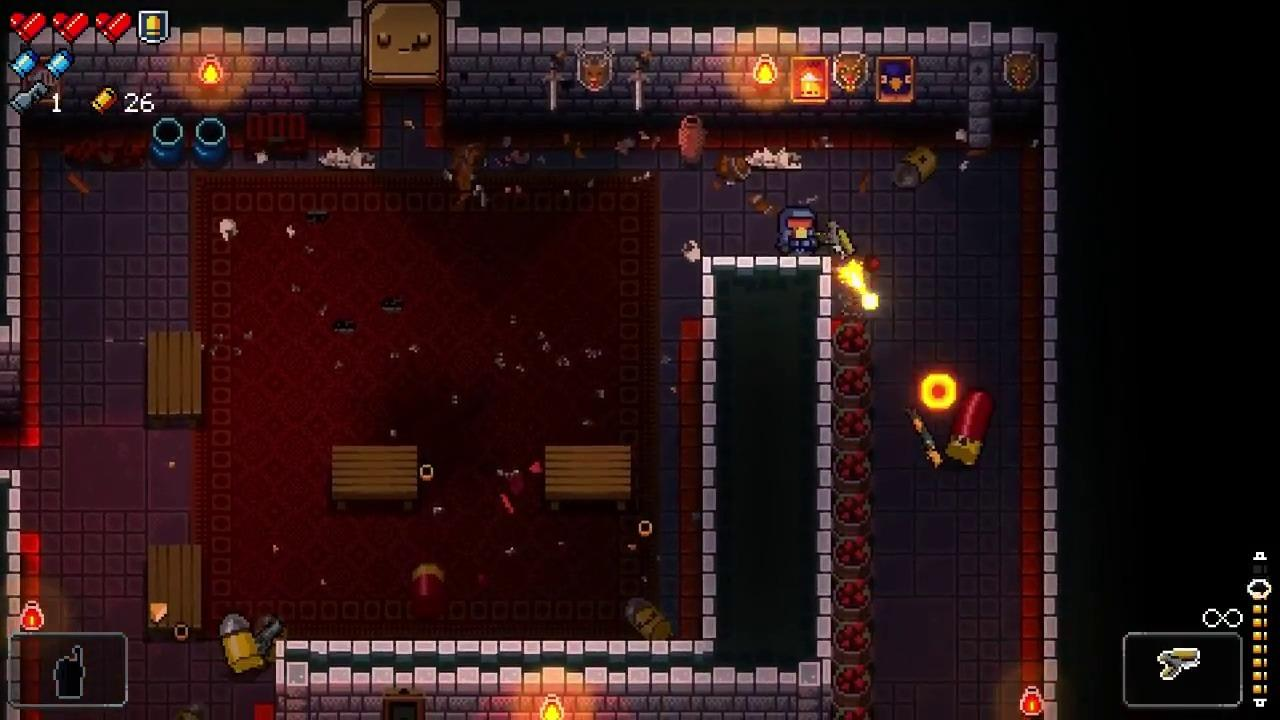bullet_kin: (221, 614, 265, 673), (624, 597, 673, 640)
dead_bullet_kin: (893, 146, 940, 189)
locked_door: (362, 0, 446, 88)
player: (775, 206, 820, 255)
red_shotgun_kin: (944, 388, 997, 467), (409, 564, 446, 619)
table: (331, 444, 416, 511), (546, 445, 630, 510), (146, 331, 201, 429), (147, 545, 202, 641)
